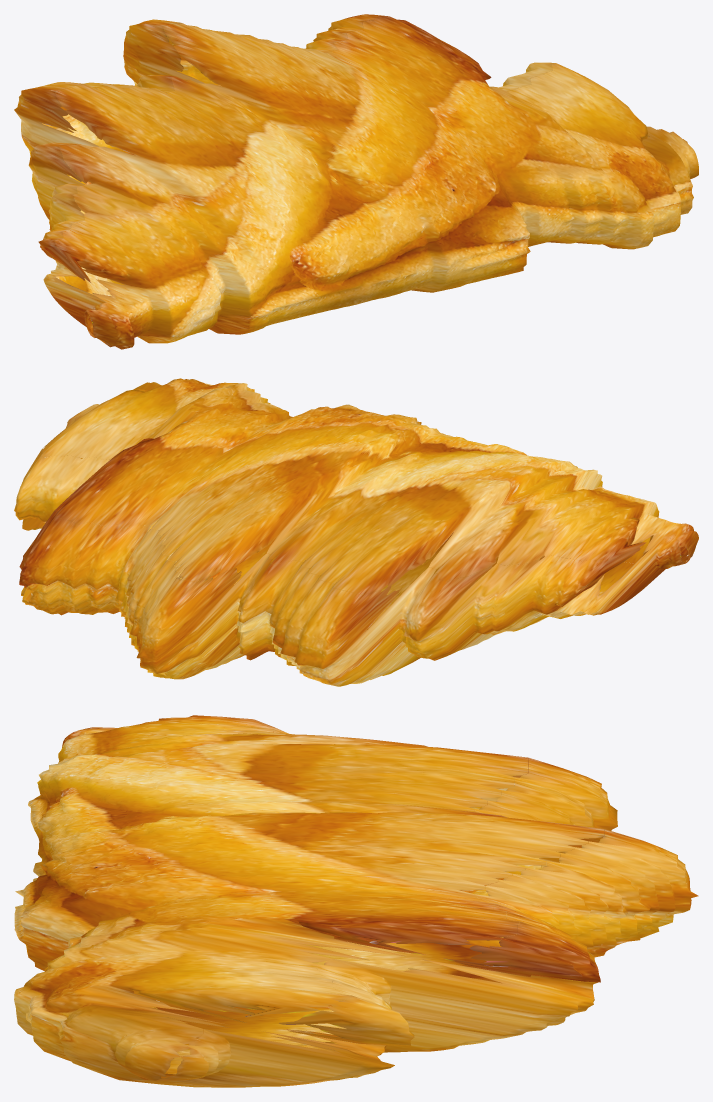
File: fries.glb
3 renders of one model, top to bottom at view 1: azimuth 30°, elevation 25°; view 2: azimuth 150°, elevation 25°; view 3: azimuth 270°, elevation 25°, orthographic. The views are drawn at different scales.
Parts seen in each view (by area): view 1: fries; view 2: fries; view 3: fries.
Boxes of the visible parts, left/top/right/bottom form: fries: left=14, top=14, right=698, bottom=349; fries: left=14, top=378, right=698, bottom=686; fries: left=14, top=715, right=698, bottom=1087.
Size of the model in its own units: 1.04 by 0.21 by 0.9.
1 material, 1 textured.
